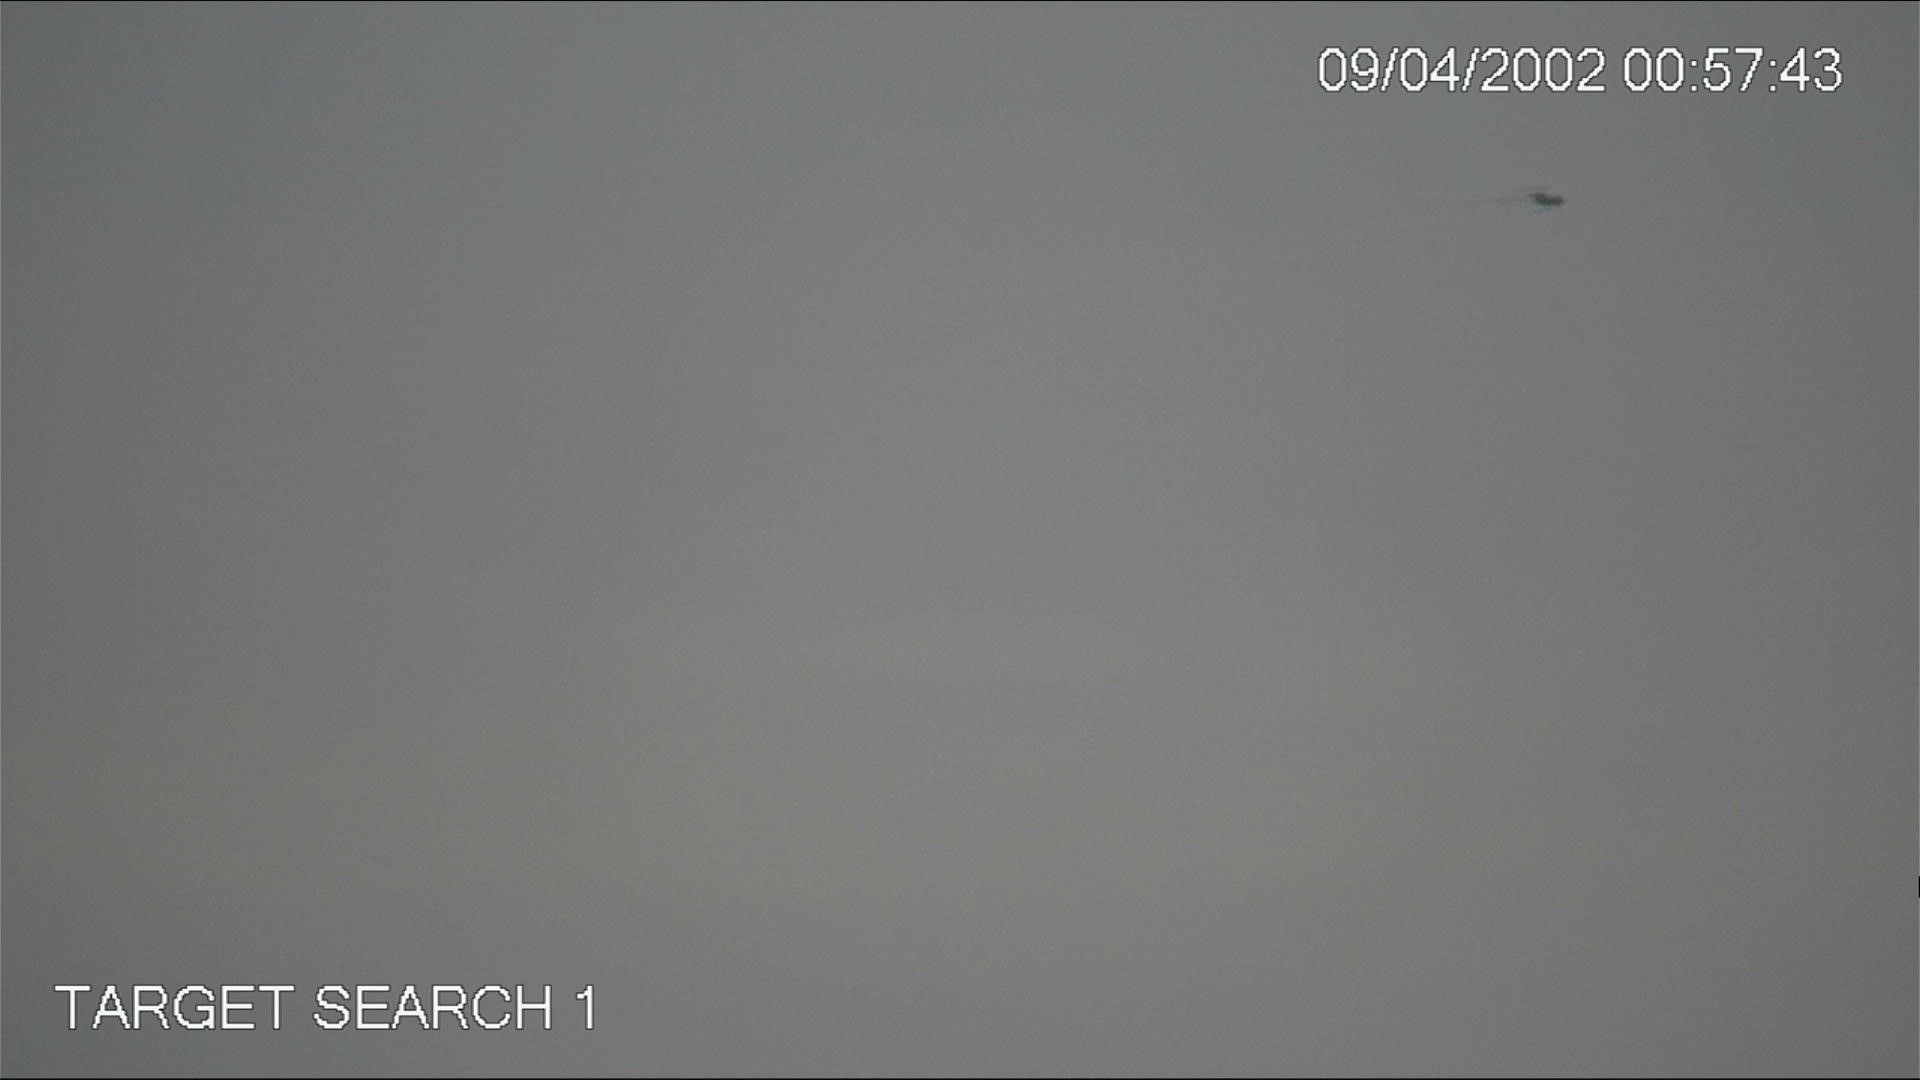SU_30: (1497, 178, 1571, 218)
